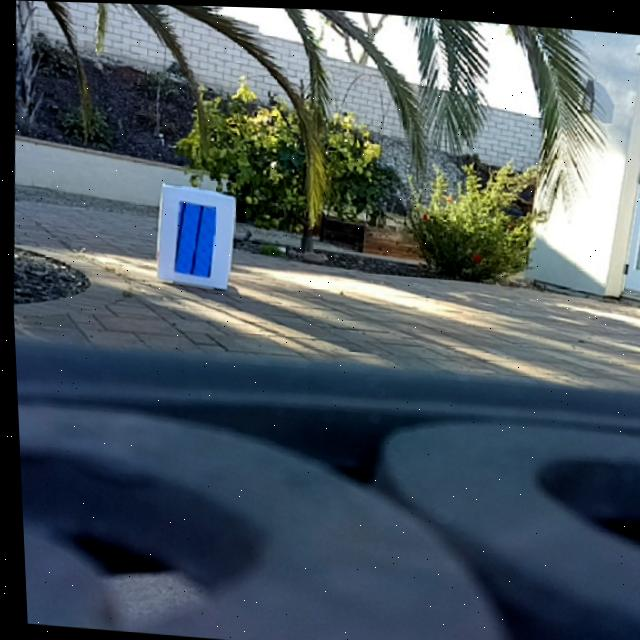led: (170, 199, 217, 278)
